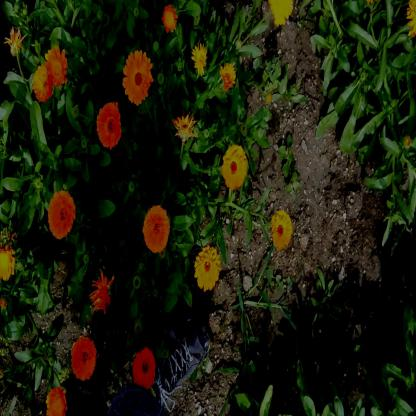marigold: (124, 50, 151, 106), (48, 191, 74, 239), (142, 206, 168, 254), (194, 246, 219, 292), (97, 100, 119, 147), (222, 144, 246, 187), (71, 338, 94, 380), (131, 348, 155, 386), (272, 210, 292, 248), (45, 52, 67, 83), (267, 0, 290, 25), (45, 389, 66, 416), (33, 68, 50, 100), (190, 42, 206, 74), (217, 63, 235, 88), (0, 248, 13, 279)
